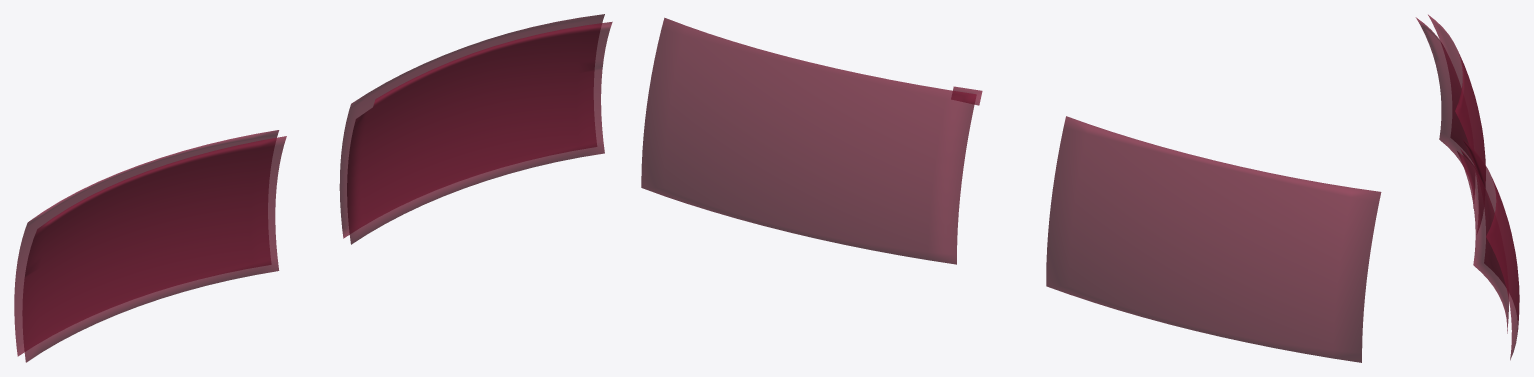
Rendered from MM__Dagslys_BadeDyrSolbr.gltf.
The picture shows the model from 3 angles, left to right: view 1: azimuth 30°, elevation 25°; view 2: azimuth 150°, elevation 25°; view 3: azimuth 270°, elevation 25°; orthographic projection. The views are drawn at different scales.
Parts seen in each view (by area): view 1: TaggySolbrille_Glas; view 2: TaggySolbrille_Glas; view 3: TaggySolbrille_Glas.
Part boxes in pixels (left/top/right/bottom): TaggySolbrille_Glas: left=14, top=14, right=612, bottom=362; TaggySolbrille_Glas: left=641, top=17, right=1381, bottom=362; TaggySolbrille_Glas: left=1415, top=14, right=1519, bottom=360.
Size of the model in its own units: 0.343 by 0.0955 by 0.0594.
